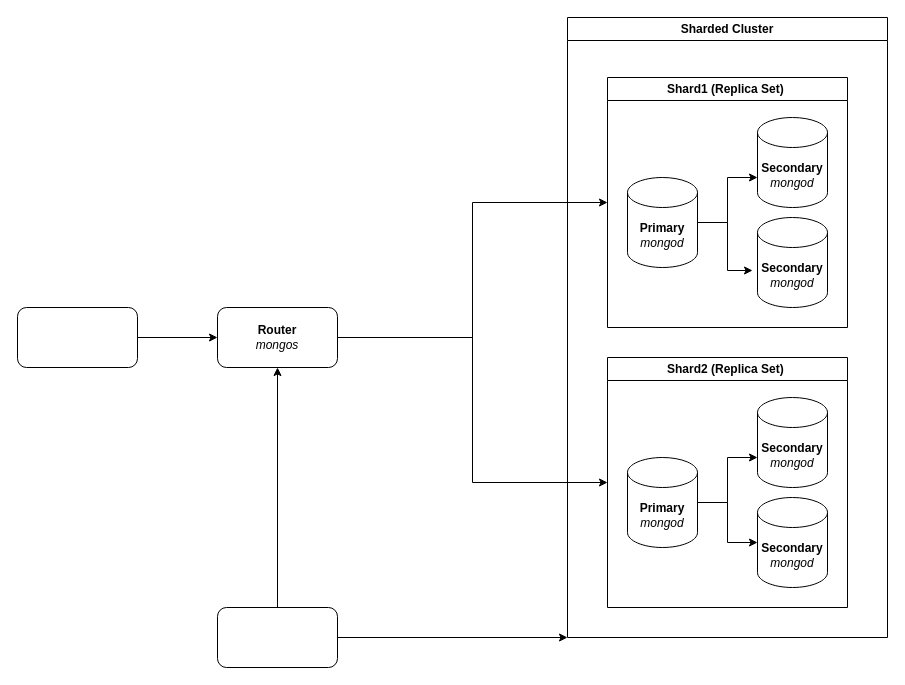
This 905x685 diagram has some shape labels left out. Each missing label, with the centre of its shape:
"Config Server mongod" belongs at (x=277, y=637).
"pymongo-api" belongs at (x=77, y=337).
